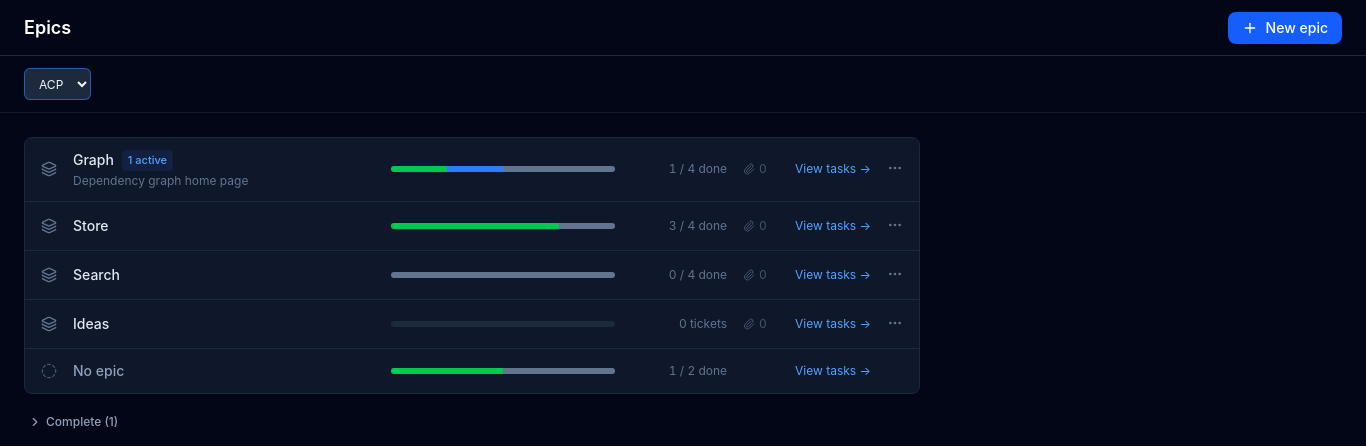
it: Epics rows › offers only Delete in the row menu, a plain disclosure
Expected: the button "Delete" is not shown
Click the button named "Actions for Store".
click(895, 224)  # box [883, 212, 907, 236]
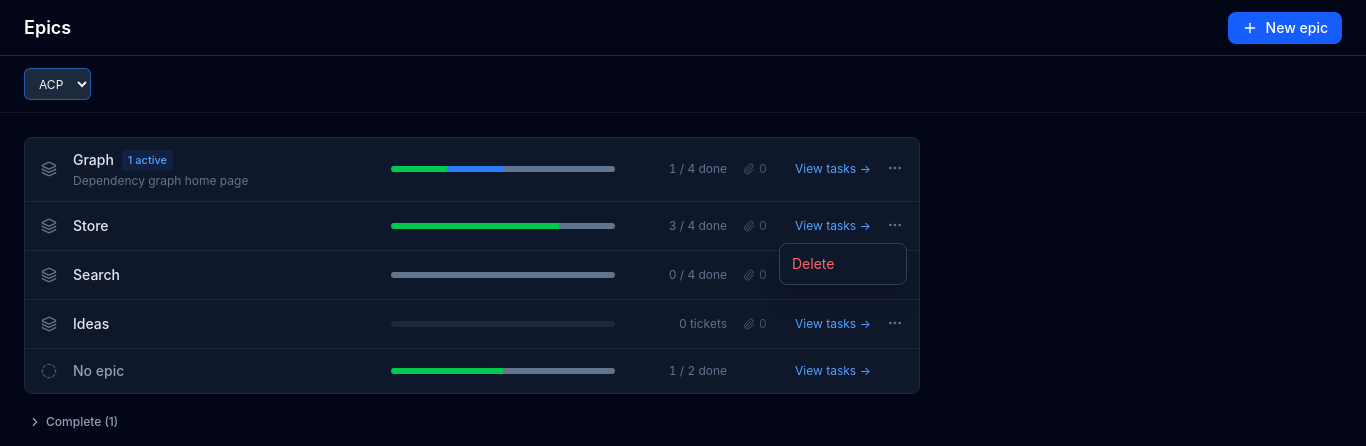
Now the buttons read "Delete", in this order, box [780, 248, 906, 280]
